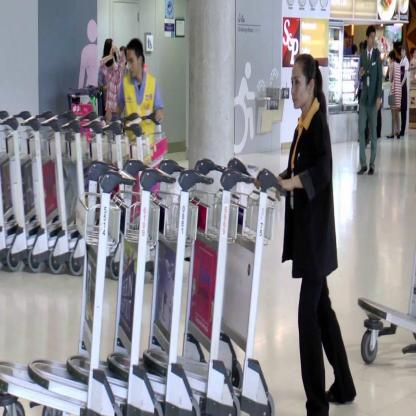airport-trolley: (65, 155, 215, 416), (106, 156, 256, 416), (143, 158, 292, 416), (28, 157, 175, 416), (0, 159, 135, 416), (22, 108, 94, 277), (1, 107, 67, 285), (42, 110, 87, 276)
